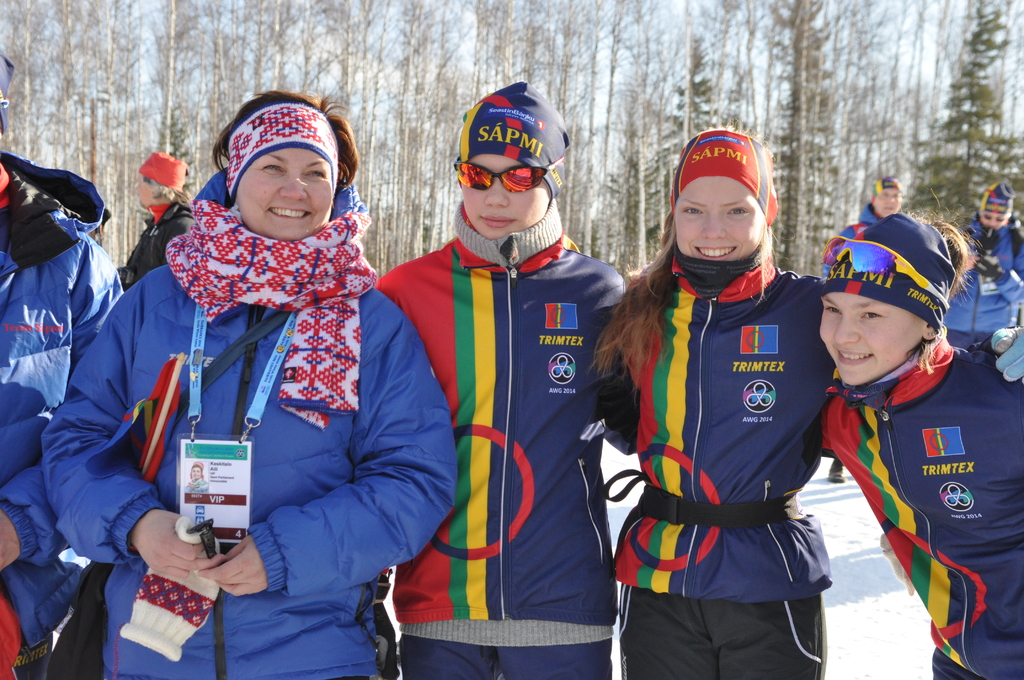Person: (0, 48, 1024, 677)
